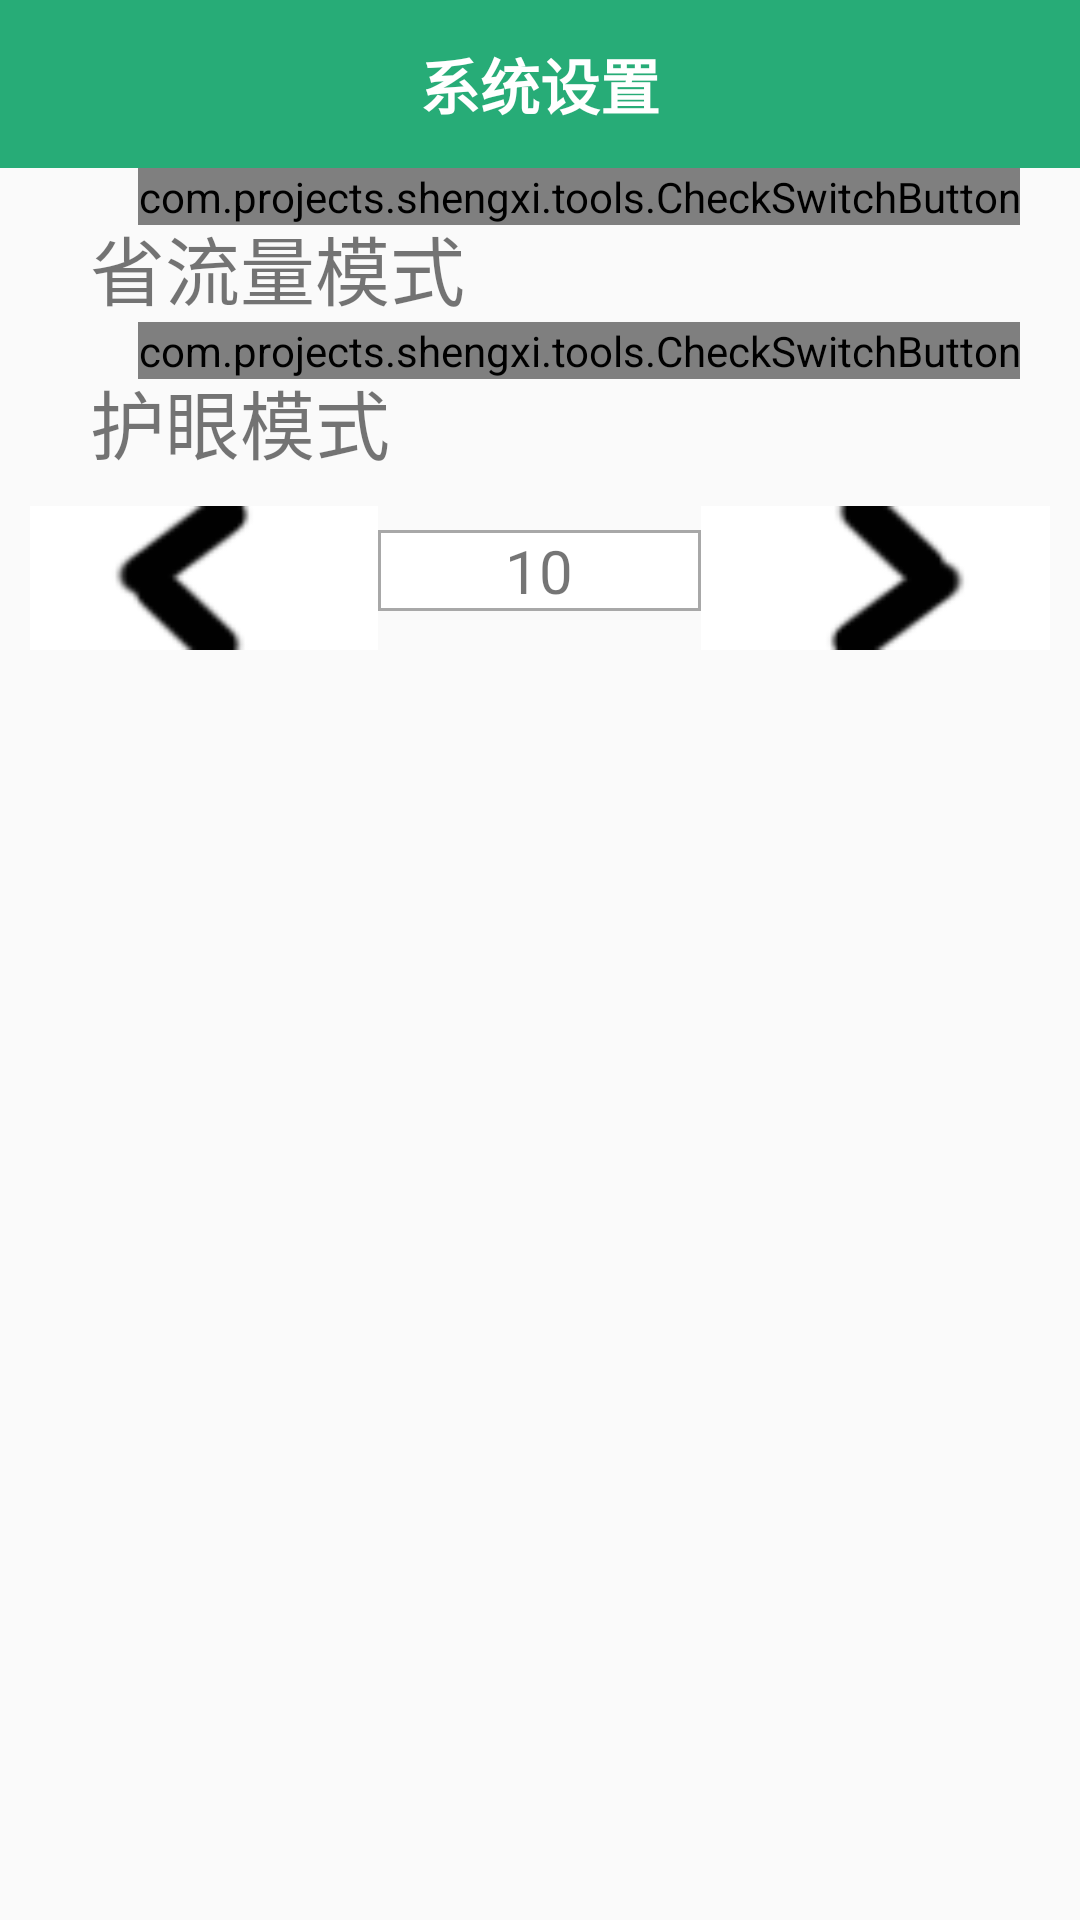

Icons on this 1080w x 1920h Android screen, each with the point to tap as (x,y):
hot num add: (897,578)
hot num reduce: (182,578)
